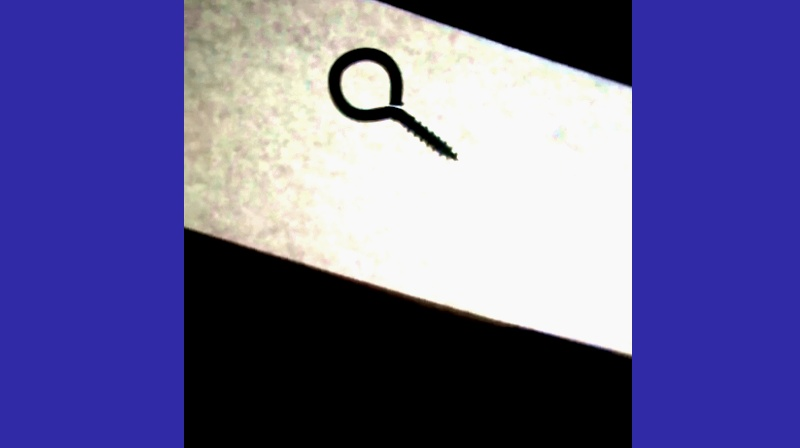O001: (322, 42, 460, 163)
